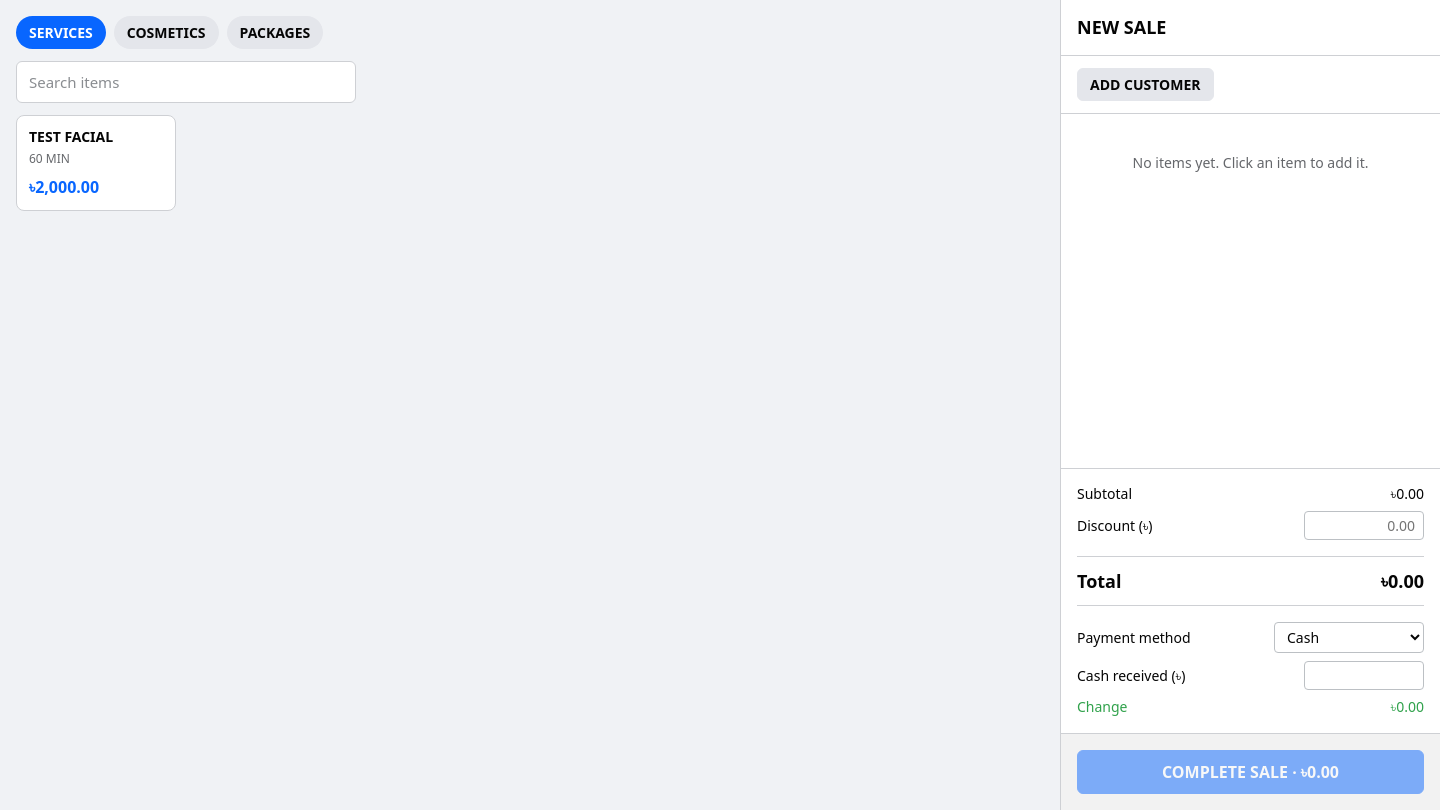
Scenario: NewSalePage › adds a service to the cart when clicked
Click the text "Test Facial" at (71, 137), box x1=29 y1=128 x2=113 y2=146
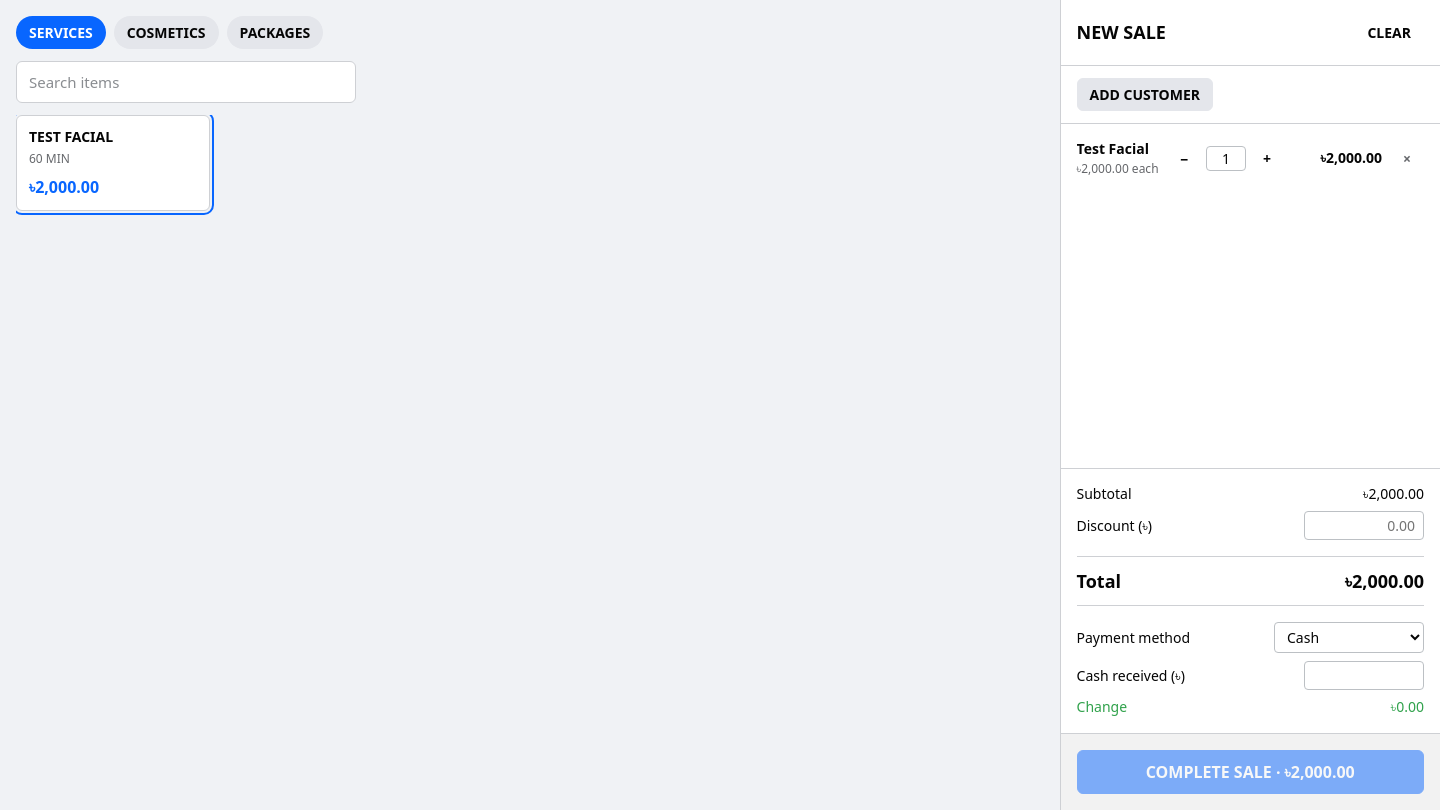
Expected: the text "Test Facial" below "New Sale" is shown, x1=1076 y1=139 x2=1149 y2=158
